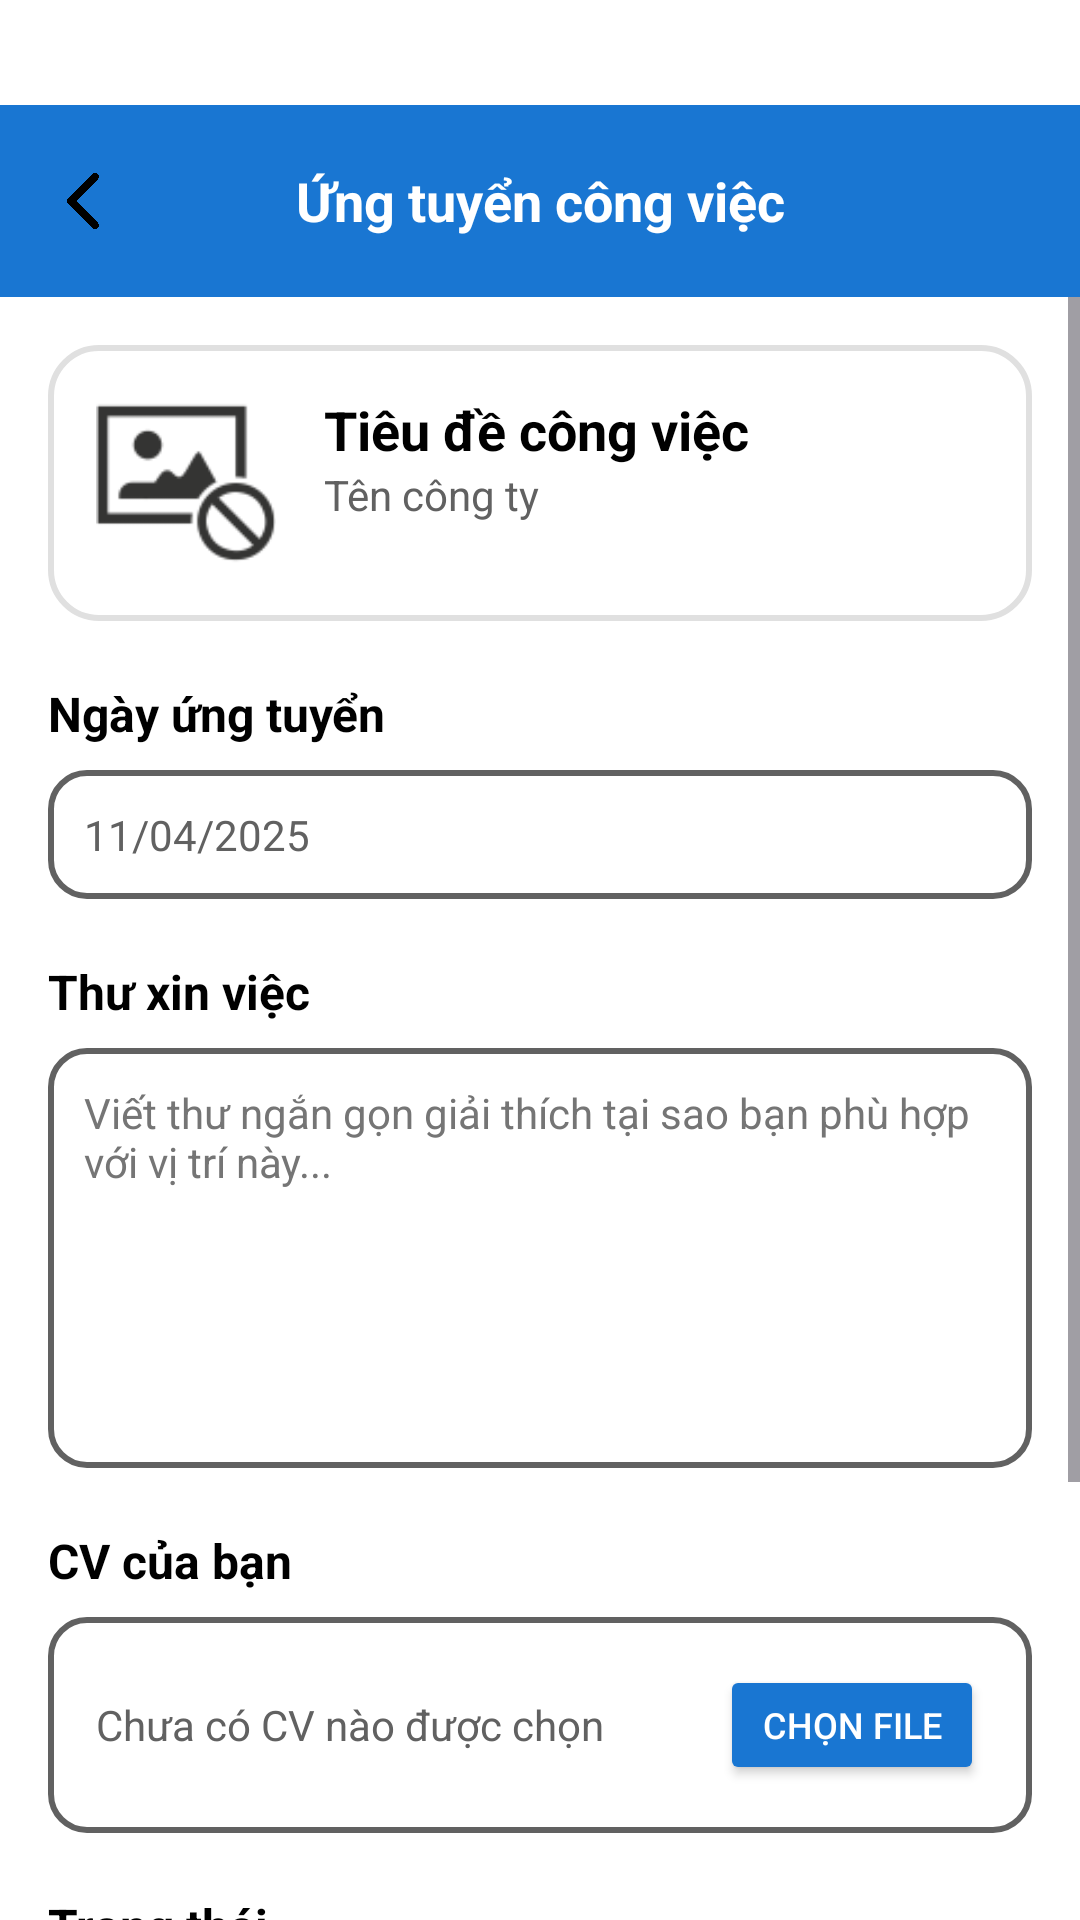

Icons on this 1080*1920 Android screen, each with its box as (x1, y1, x2, y2):
back: (67, 173, 99, 229)
